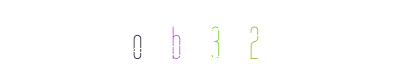2: (197, 0, 277, 80)
3: (170, 0, 250, 80)
B: (127, 0, 207, 80)
O: (97, 0, 177, 80)
